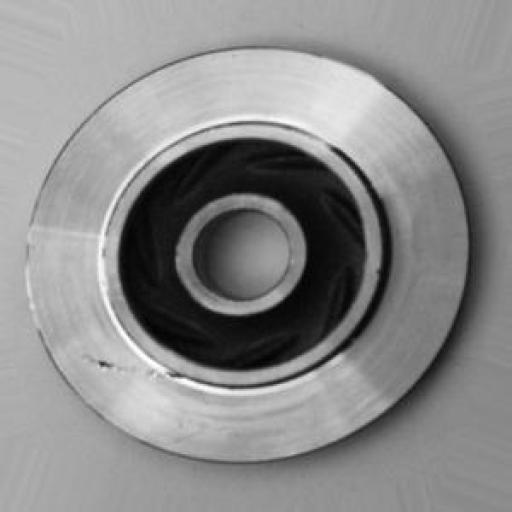defect: (53, 331, 211, 390)
